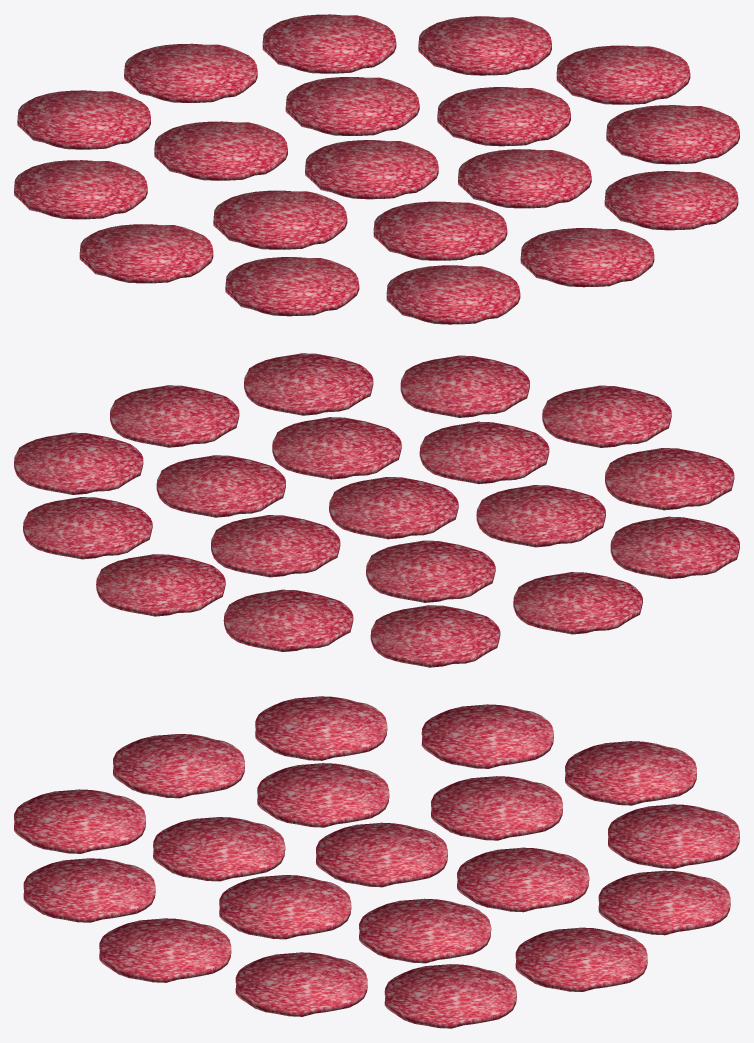
File: pepperonniTopping.fbx
The picture shows the model from 3 angles, top to bottom: view 1: azimuth 30°, elevation 25°; view 2: azimuth 150°, elevation 25°; view 3: azimuth 270°, elevation 25°; orthographic projection. The views are drawn at different scales.
Parts seen in each view (by area): view 1: pepperonni.010, pepperonni.003, pepperonni.005, pepperonni.016, pepperonni.018, pepperonni.012, pepperonni.002, pepperonni.008, pepperonni.007, pepperonni.017, pepperonni.011, pepperonni.014 (+7 smaller); view 2: pepperonni.006, pepperonni.003, pepperonni.008, pepperonni.009, pepperonni.014, pepperonni.002, pepperonni.017, pepperonni.001, pepperonni.010, pepperonni.016, pepperonni, pepperonni.005 (+7 smaller); view 3: pepperonni.003, pepperonni.013, pepperonni.015, pepperonni.009, pepperonni.014, pepperonni.005, pepperonni.010, pepperonni.016, pepperonni.018, pepperonni.006, pepperonni.001, pepperonni.017 (+7 smaller).
Part boxes in pixels (<box>): pepperonni.010: <box>79,224,213,283</box>; pepperonni.003: <box>213,190,347,249</box>; pepperonni.005: <box>373,201,507,260</box>; pepperonni.016: <box>556,45,690,104</box>; pepperonni.018: <box>262,14,396,73</box>; pepperonni.012: <box>386,265,520,324</box>; pepperonni.002: <box>154,121,287,180</box>; pepperonni.008: <box>17,90,150,149</box>; pepperonni.007: <box>124,43,257,102</box>; pepperonni.017: <box>418,16,551,75</box>; pepperonni.011: <box>225,257,359,316</box>; pepperonni.014: <box>604,171,738,230</box>; pepperonni.006: <box>156,455,285,517</box>; pepperonni.003: <box>476,485,605,547</box>; pepperonni.008: <box>370,605,500,667</box>; pepperonni.009: <box>513,572,642,634</box>; pepperonni.014: <box>244,353,373,415</box>; pepperonni.002: <box>366,540,495,602</box>; pepperonni.017: <box>23,497,152,559</box>; pepperonni.001: <box>272,417,401,479</box>; pepperonni.010: <box>610,516,739,578</box>; pepperonni.016: <box>14,432,143,494</box>; pepperonni: <box>329,477,458,539</box>; pepperonni.005: <box>419,421,549,483</box>; pepperonni.003: <box>257,763,389,827</box>; pepperonni.013: <box>23,858,155,922</box>; pepperonni.015: <box>235,952,367,1016</box>; pepperonni.009: <box>421,704,553,768</box>; pepperonni.014: <box>99,918,231,982</box>; pepperonni.005: <box>153,817,285,881</box>; pepperonni.010: <box>255,696,387,760</box>; pepperonni.016: <box>384,964,516,1028</box>; pepperonni.018: <box>598,870,730,935</box>; pepperonni.006: <box>359,898,491,963</box>; pepperonni.001: <box>219,875,351,939</box>; pepperonni.017: <box>515,927,647,991</box>.
Bounding box in the file's own units: 57.31 × 0.6754 × 54.06.
1 material, 1 textured.
